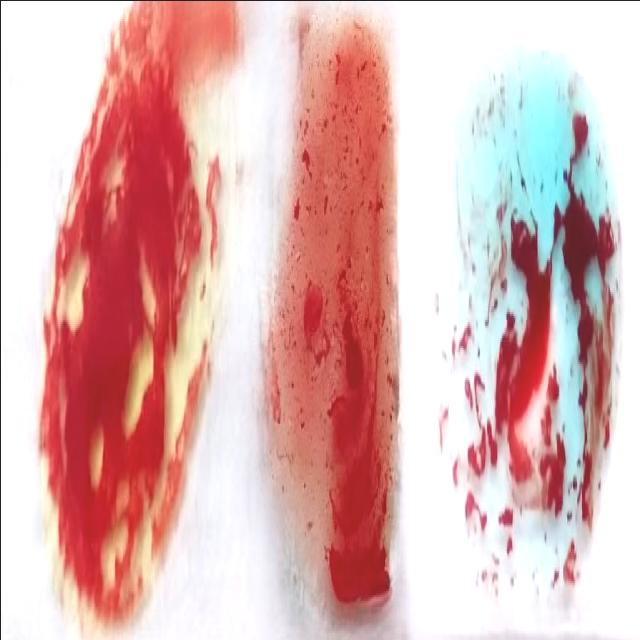A: (452, 40, 612, 600)
B: (48, 22, 214, 620)
D: (274, 42, 397, 636)
